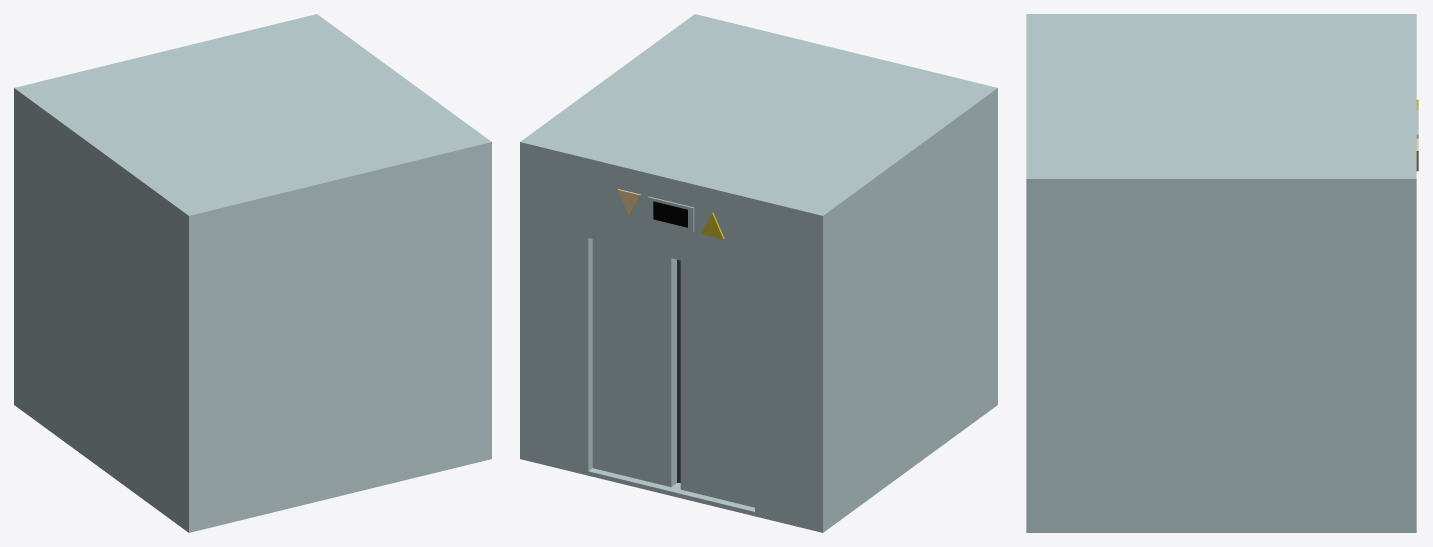
Rendered from LargeLift.fbx.
3 renders of one model, left to right at view 1: azimuth 30°, elevation 25°; view 2: azimuth 150°, elevation 25°; view 3: azimuth 270°, elevation 25°, orthographic. The views are drawn at different scales.
Visible parts, largest first — view 1: Lift; view 2: Lift, Lift door left, Lift door right, Lift floor sign; view 3: Lift.
Boxes of the visible parts, left/top/right/bottom form: Lift: left=14, top=14, right=491, bottom=532; Lift: left=520, top=14, right=997, bottom=532; Lift door left: left=592, top=239, right=680, bottom=486; Lift door right: left=680, top=260, right=754, bottom=507; Lift floor sign: left=648, top=196, right=694, bottom=231; Lift: left=1026, top=14, right=1416, bottom=532.
Bounding box in the file's own units: 400 × 400 × 402.
